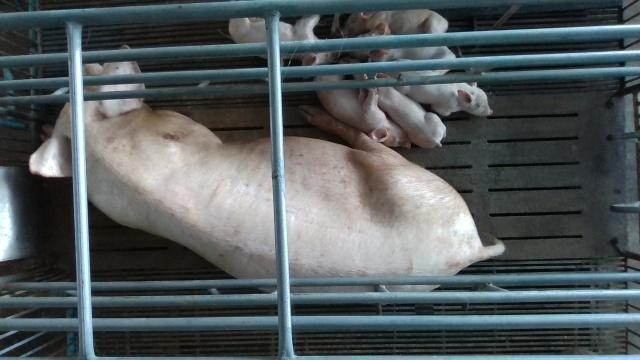piglet: (315, 74, 412, 149), (350, 21, 456, 76), (228, 17, 335, 67), (396, 71, 494, 116), (379, 87, 446, 150), (341, 9, 450, 37)
sow-sit: (28, 45, 507, 291)
